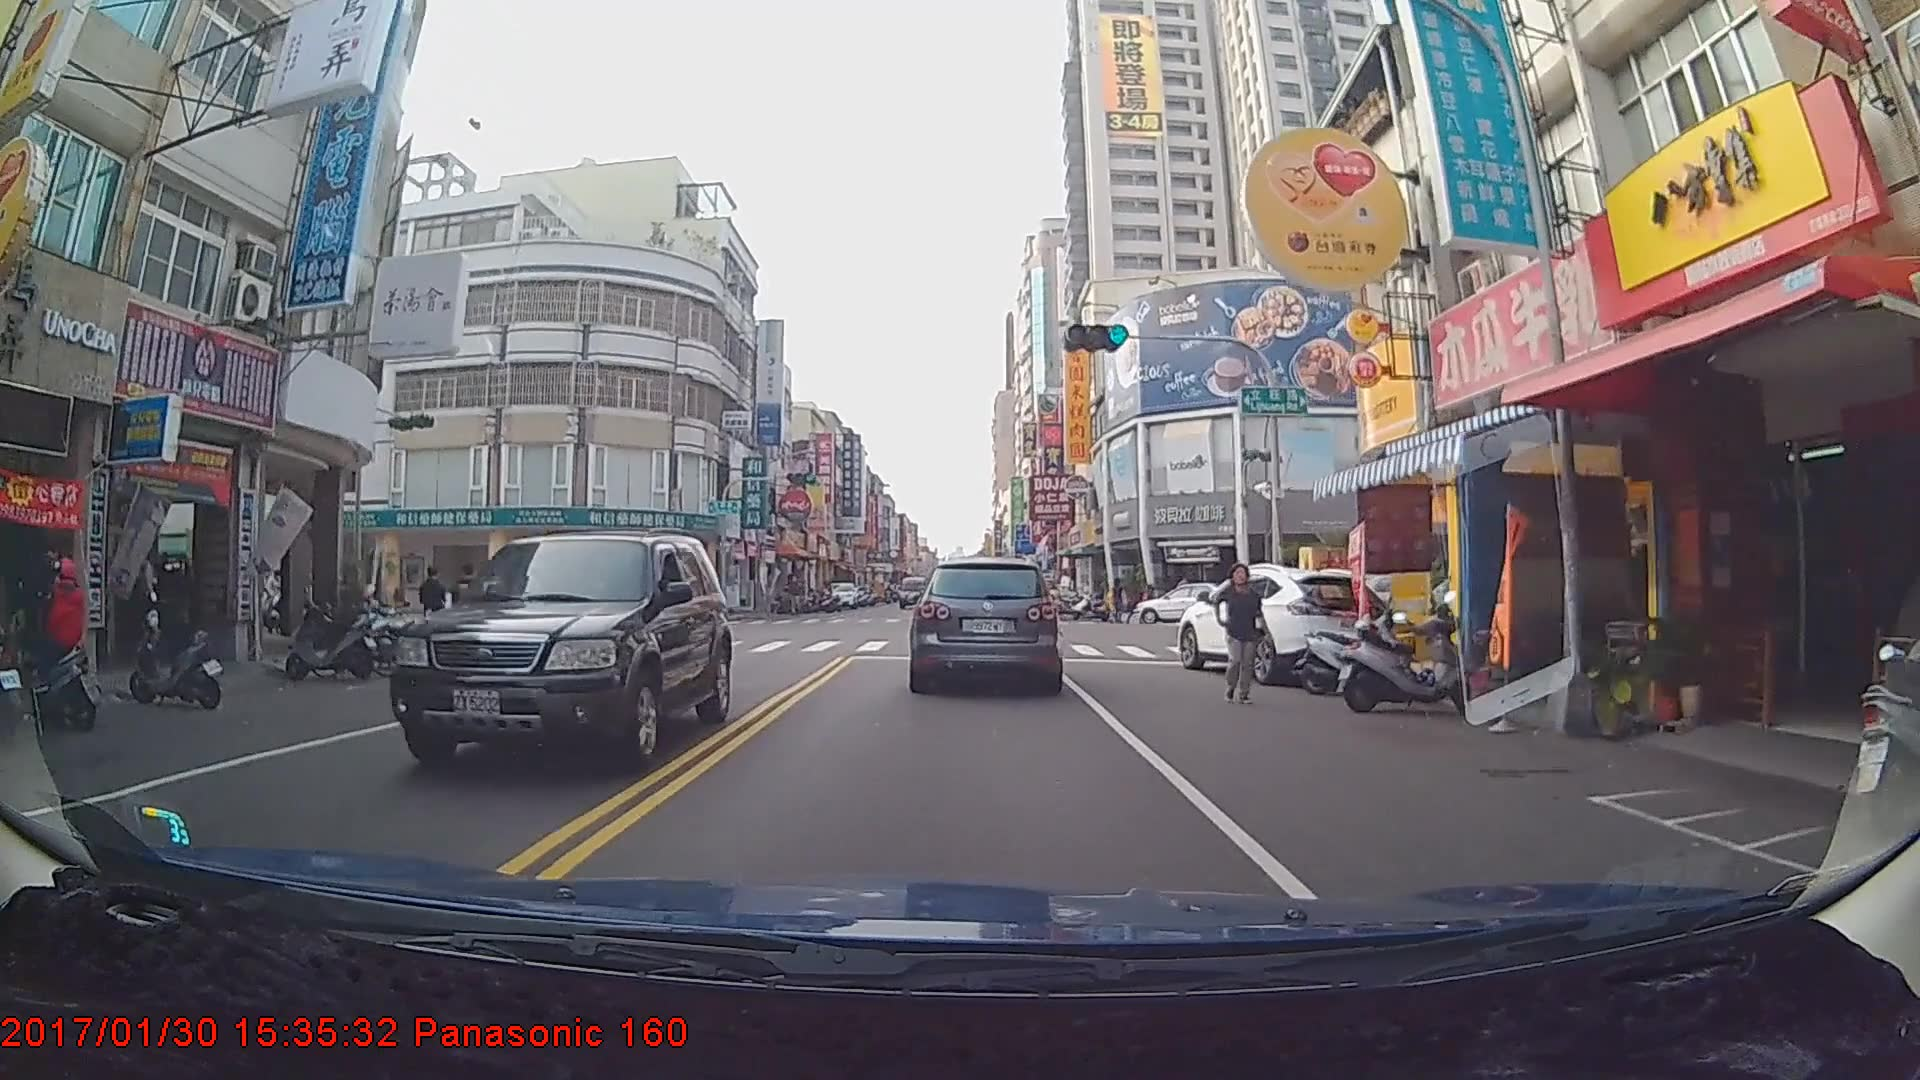pedestrian: (1219, 565, 1272, 711), (418, 567, 449, 650)
rider: (5, 551, 103, 732)
vehicle: (376, 529, 730, 775), (1176, 563, 1399, 685), (908, 555, 1059, 693), (1129, 582, 1252, 624), (823, 579, 860, 609), (897, 578, 929, 611)
